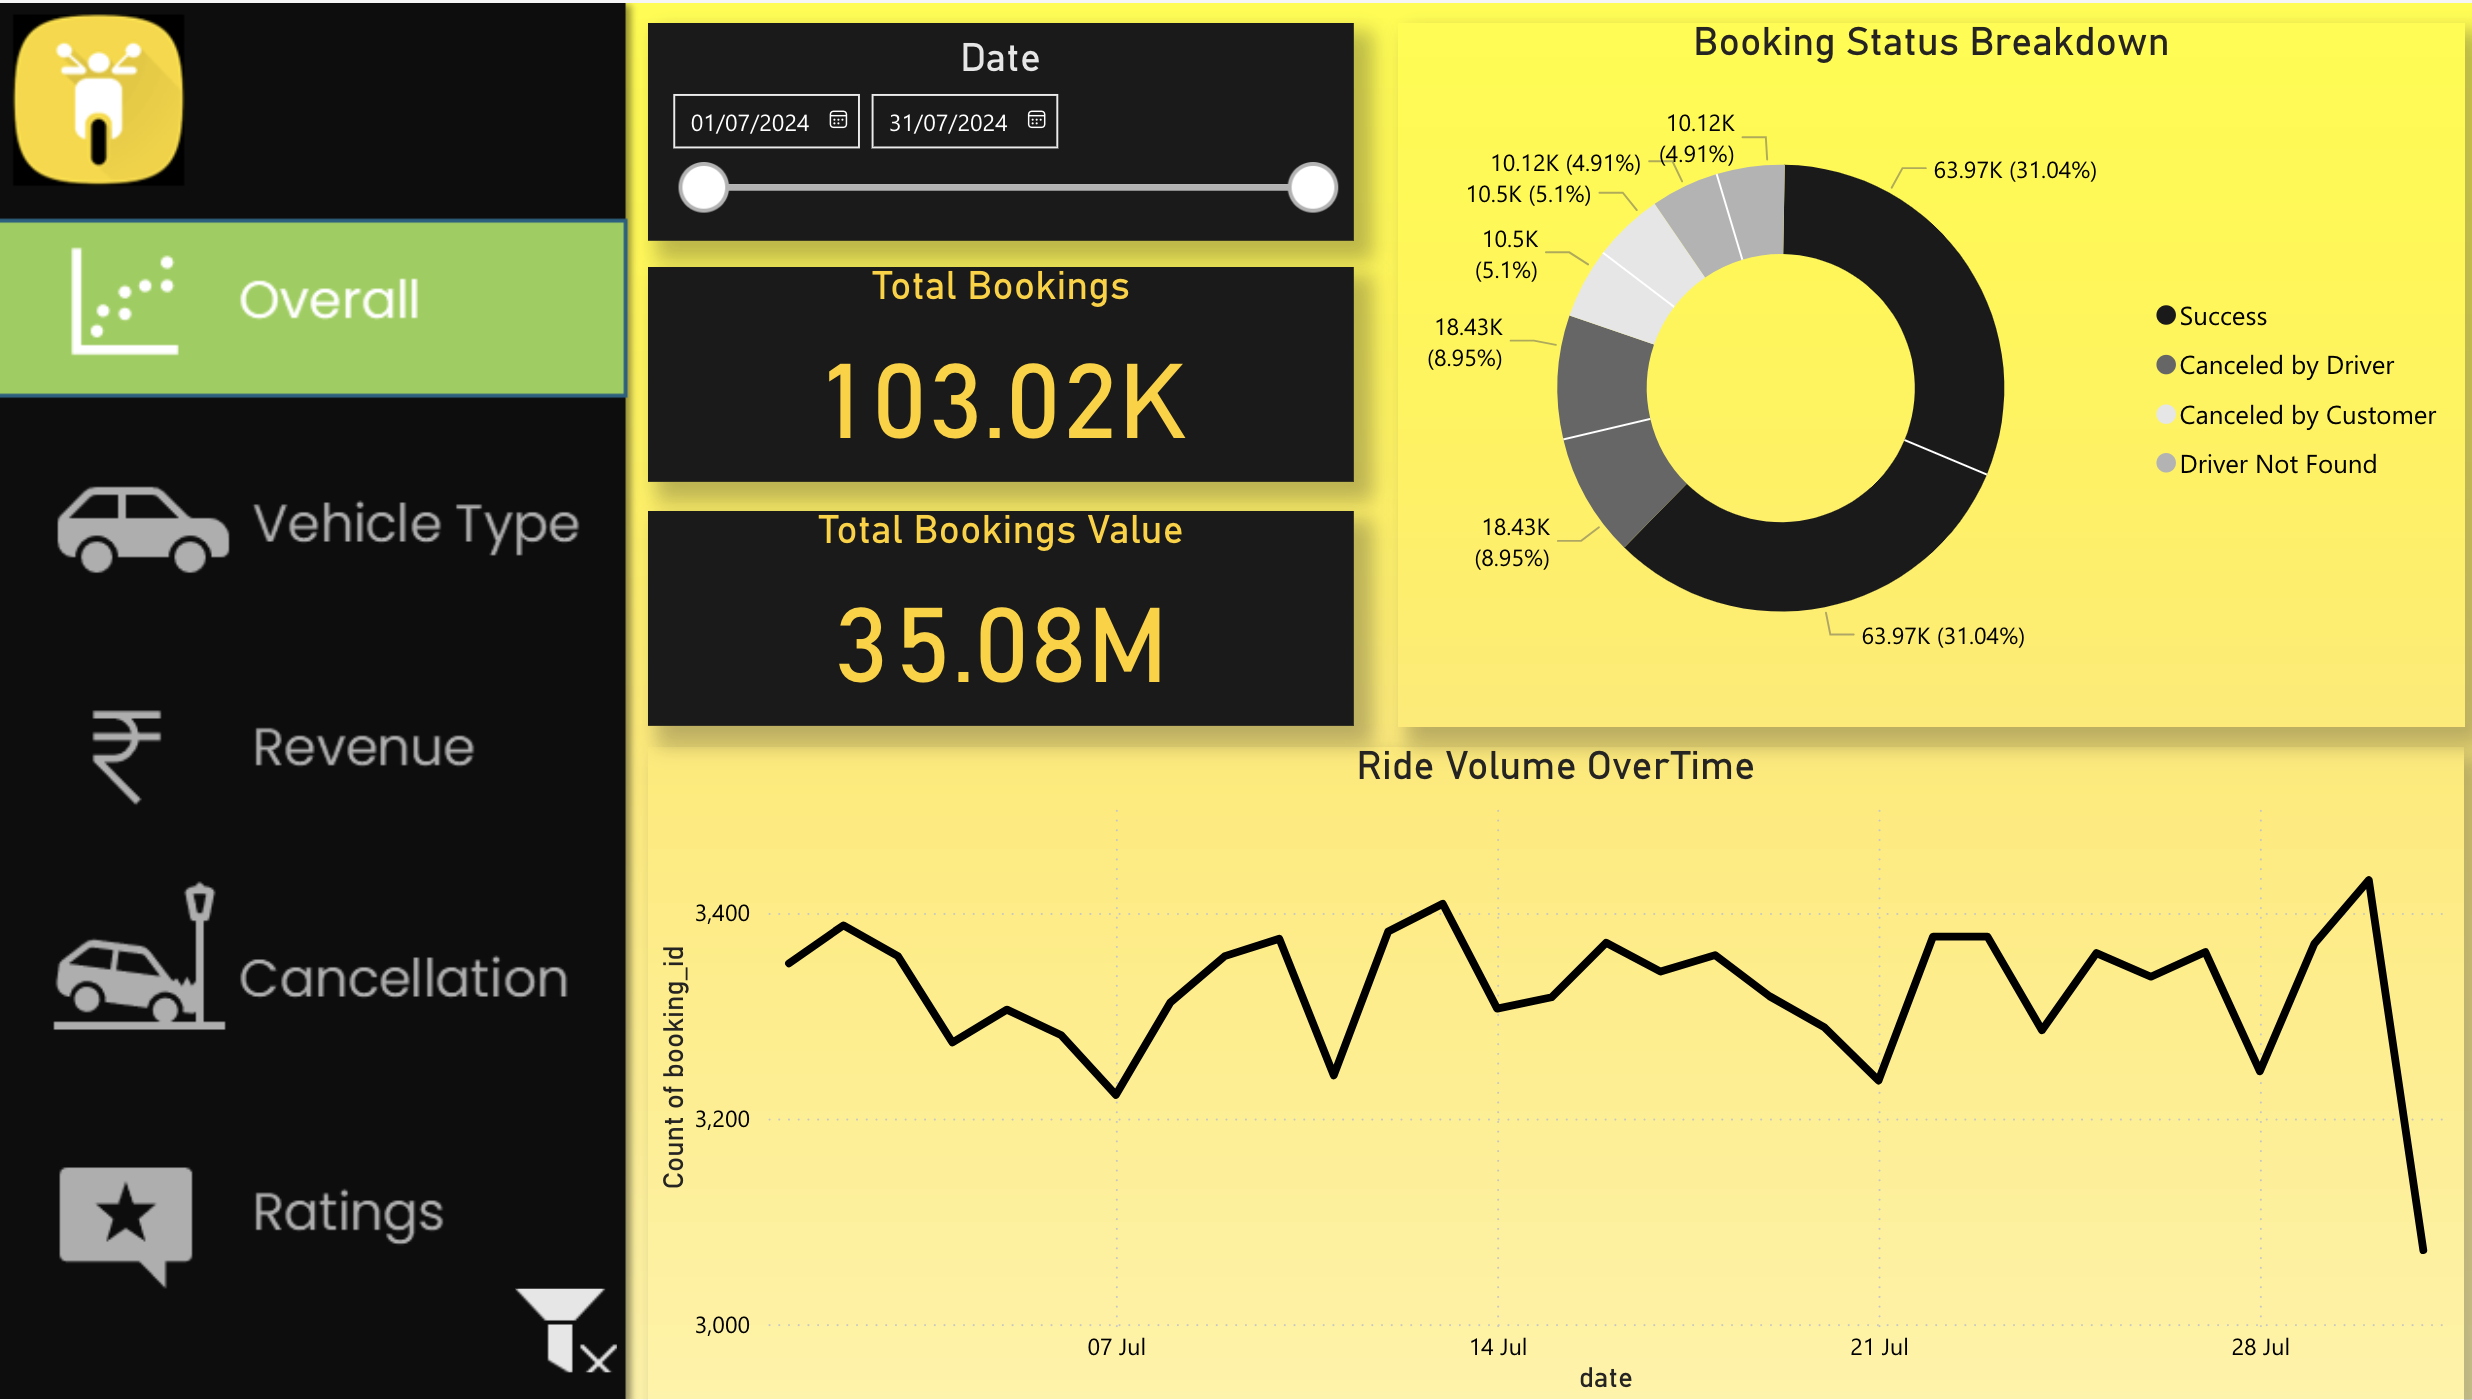

What the dashboard file says about the page in this screenshot:
{"tool":"powerbi","page":{"name":"Overall","canvas":[1280,720],"ordinal":0},"visuals":[{"type":"actionButton","box":[0,229.6,323.1,72.3],"z":0},{"type":"actionButton","box":[0,348.7,323.1,72.3],"z":1000},{"type":"actionButton","box":[0,464.9,323.1,72.3],"z":2000},{"type":"actionButton","box":[0,582.5,323.1,72.3],"z":3000},{"type":"lineChart","title":"Ride Volume OverTime","fields":{"Y":["CountNonNull(Bookings-100000-RowsCSVV.booking_id)"],"Category":["Bookings-100000-RowsCSVV.date"]},"box":[334.5,382.7,934,337.3],"z":4000},{"type":"donutChart","title":"Booking Status Breakdown","fields":{"Y":["CountNonNull(Bookings-100000-RowsCSVV.booking_id)","CountNonNull(Bookings-100000-RowsCSVV.booking_status)"],"Category":["Bookings-100000-RowsCSVV.booking_status"]},"box":[719.8,10,548.8,362],"z":5000},{"type":"slicer","title":"Date","fields":{"Values":["Bookings-100000-RowsCSVV.date"]},"box":[334.5,9.9,362.8,112],"z":6000},{"type":"card","title":"Total Bookings","fields":{"Values":["CountNonNull(Bookings-100000-RowsCSVV.booking_id)"]},"box":[334.5,136.1,362.8,110.6],"z":7000},{"type":"card","title":"Total Bookings Value","fields":{"Values":["Sum(Bookings-100000-RowsCSVV.booking_value)"]},"box":[334.5,260.8,362.8,110.6],"z":8000},{"type":"image","box":[261.5,656.5,62.2,53],"z":9000}]}

Visuals, with their boxes in screenshot pixels (x1, y1, x2, y2), scaled from the page's 1280x720 canvas onto the 2472x1400 screenshot:
actionButton: rect(0, 446, 624, 587)
actionButton: rect(0, 678, 624, 819)
actionButton: rect(0, 904, 624, 1045)
actionButton: rect(0, 1133, 624, 1273)
"Ride Volume OverTime" lineChart: rect(646, 744, 2450, 1399)
"Booking Status Breakdown" donutChart: rect(1390, 19, 2450, 723)
"Date" slicer: rect(646, 19, 1347, 237)
"Total Bookings" card: rect(646, 265, 1347, 480)
"Total Bookings Value" card: rect(646, 507, 1347, 722)
image: rect(505, 1277, 625, 1380)
